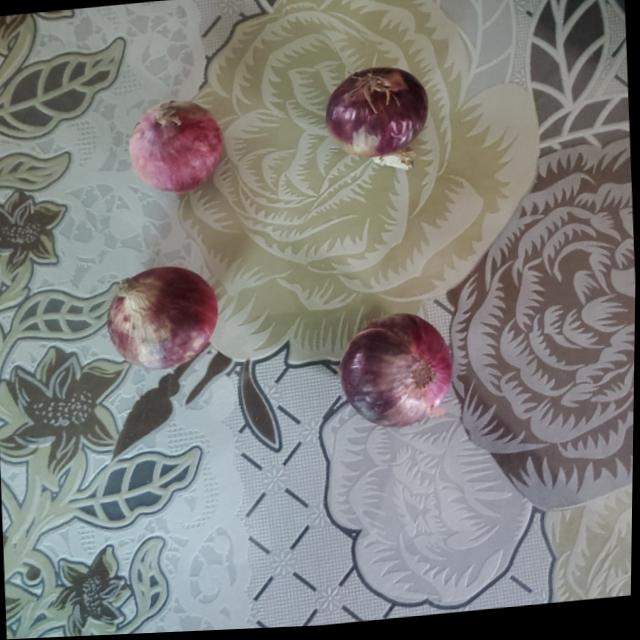onion: (337, 312, 455, 434), (108, 263, 225, 373), (327, 66, 434, 163), (129, 98, 229, 198)
